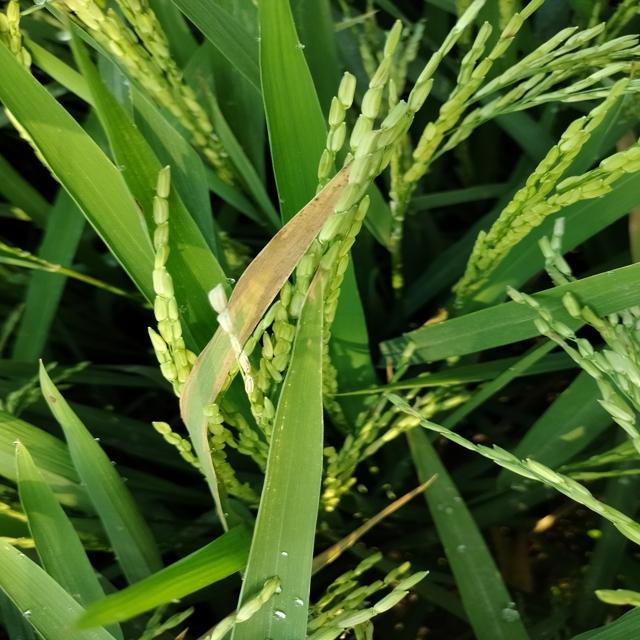healthy: (226, 154, 357, 349)
